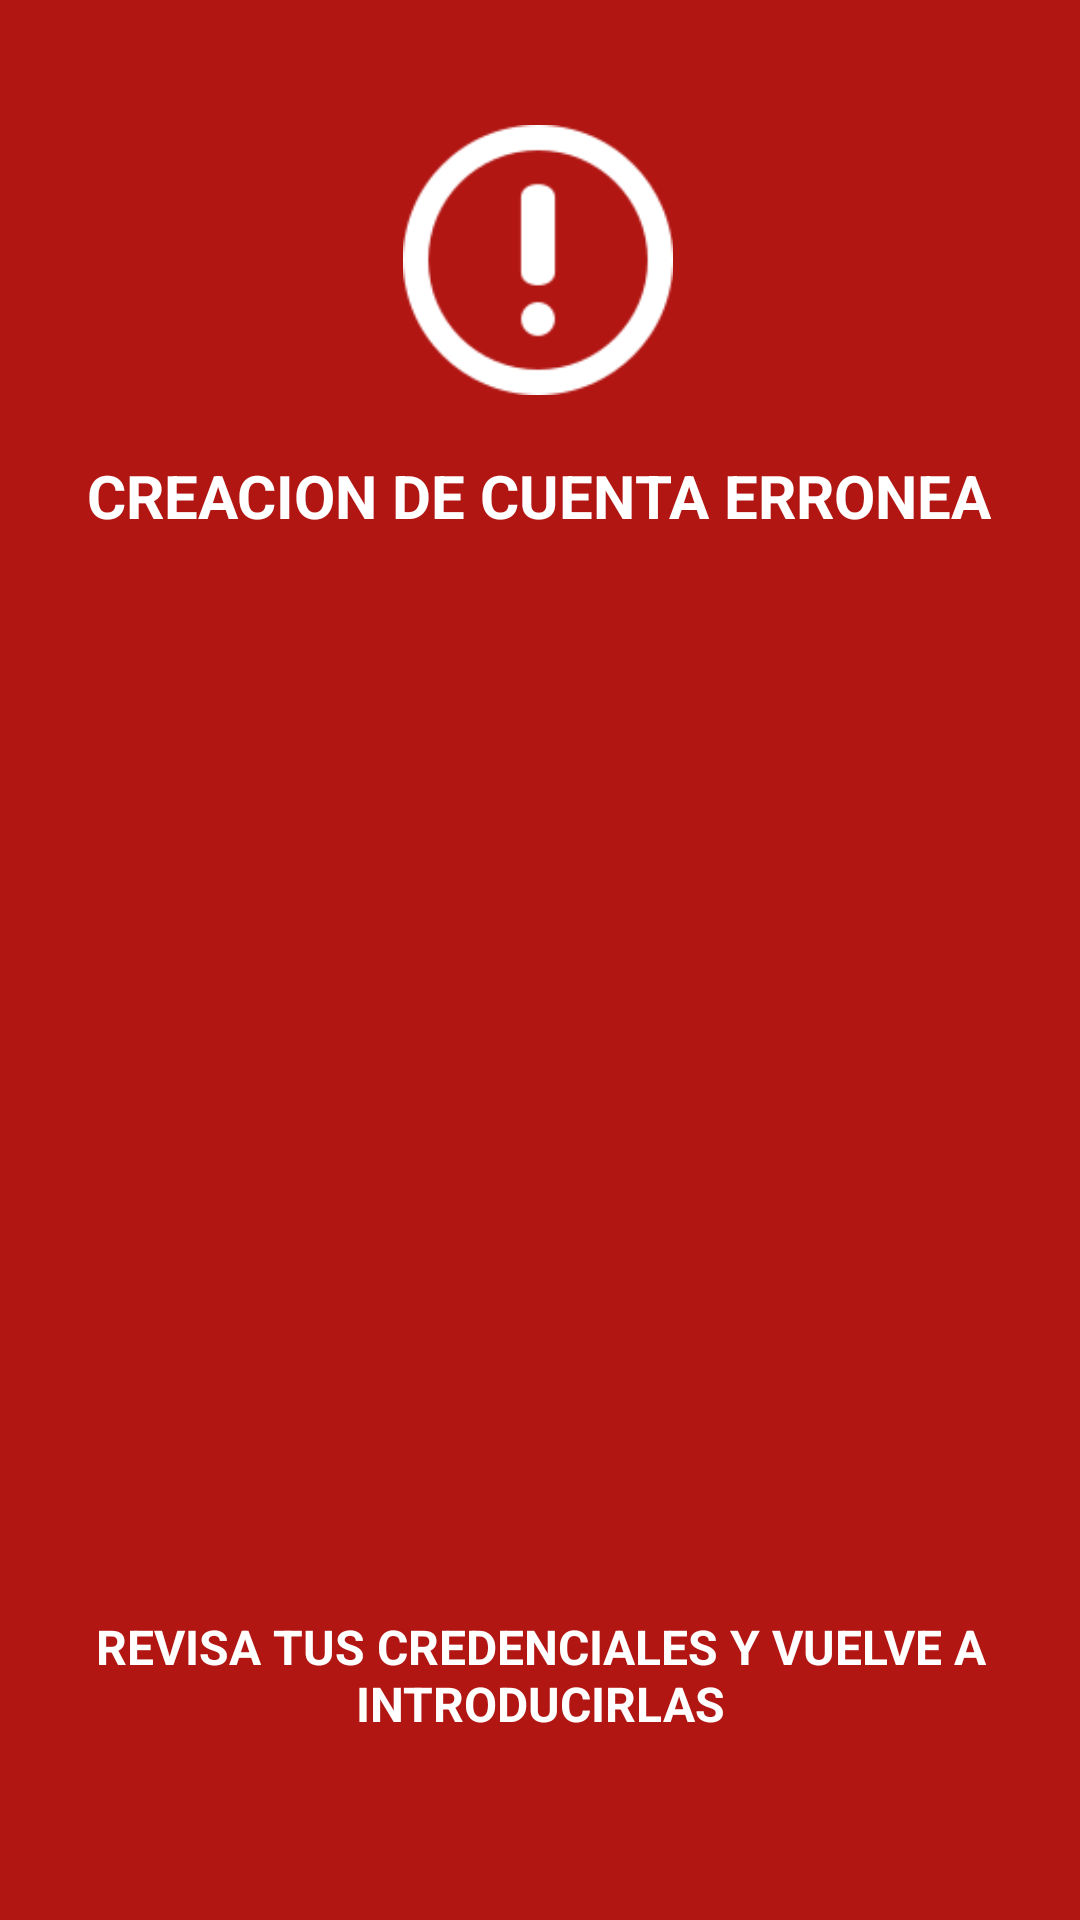

Point at icon controls on the screen. Image size 1080*1920, points as (x=x, y=y).
error sesion: (x=538, y=260)
